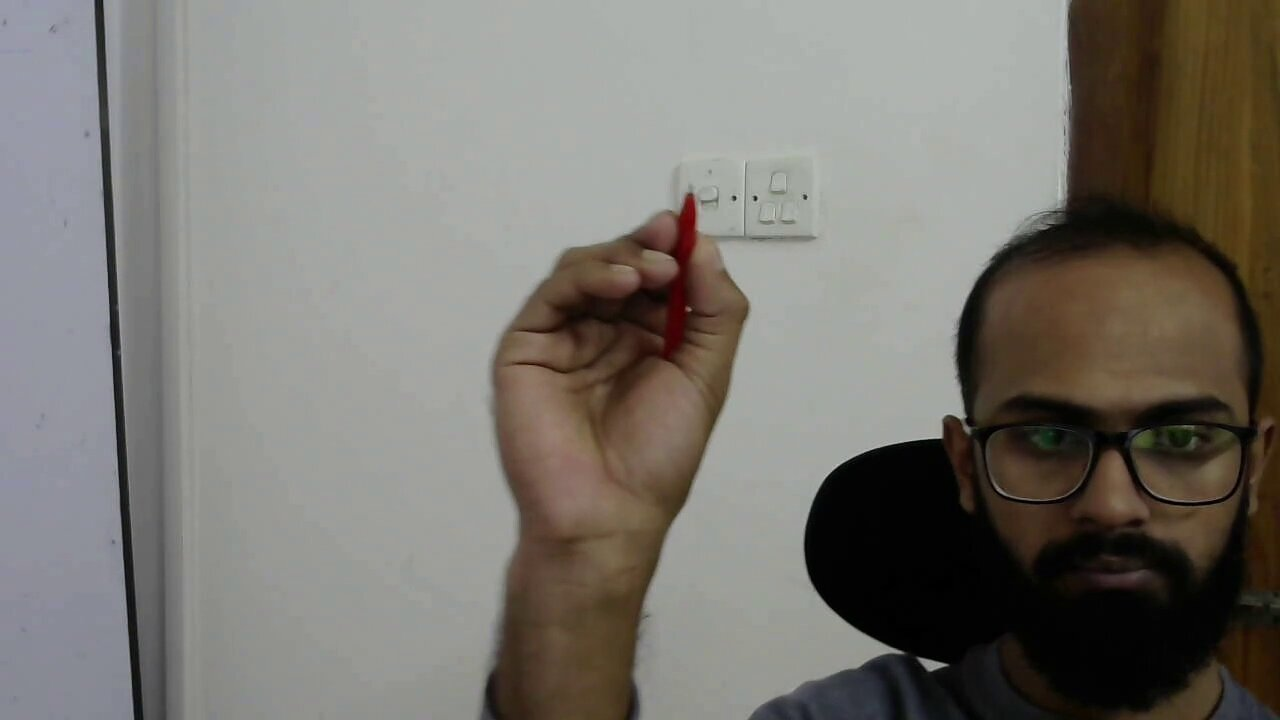pointer: (488, 212, 754, 450)
